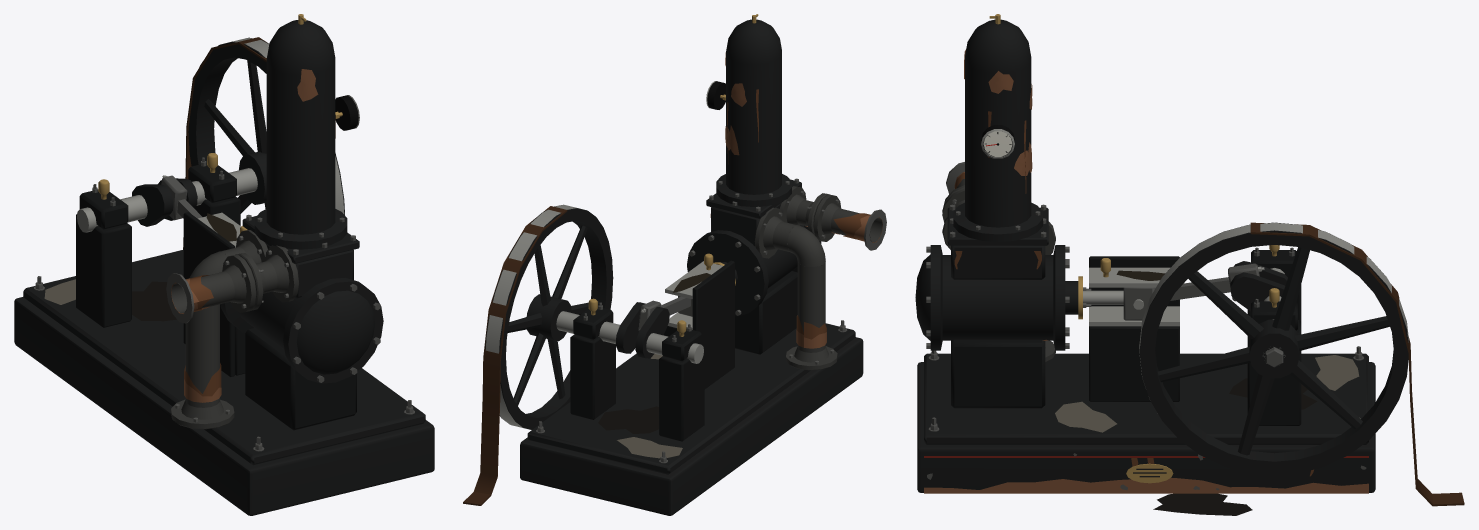
Rendered from mach_pump@1.glb.
3 renders of one model, left to right at view 1: azimuth 30°, elevation 25°; view 2: azimuth 150°, elevation 25°; view 3: azimuth 270°, elevation 25°, orthographic. The views are drawn at different scales.
Visible parts, largest first — view 1: kolbenpumpe0, kolbenpumpe5, kolbenpumpe10, kolbenpumpe2, kolbenpumpe9, kolbenpumpe14, kolbenpumpe12, kolbenpumpe11, kolbenpumpe15, kolbenpumpe6, kolbenpumpe16, kolbenpumpe3; view 2: kolbenpumpe0, kolbenpumpe5, kolbenpumpe10, kolbenpumpe9, kolbenpumpe15, kolbenpumpe2, kolbenpumpe14, kolbenpumpe12, kolbenpumpe11, kolbenpumpe16, kolbenpumpe3; view 3: kolbenpumpe0, kolbenpumpe5, kolbenpumpe12, kolbenpumpe9, kolbenpumpe2, kolbenpumpe16, kolbenpumpe15, kolbenpumpe14, kolbenpumpe3, kolbenpumpe10.
Boxes of the visible parts, box(x1,y1,x2,y2) form: kolbenpumpe0: box(14, 20, 434, 515); kolbenpumpe5: box(76, 163, 356, 430); kolbenpumpe10: box(171, 230, 298, 429); kolbenpumpe2: box(34, 157, 414, 451); kolbenpumpe9: box(77, 37, 359, 247); kolbenpumpe14: box(132, 281, 176, 321); kolbenpumpe12: box(184, 69, 318, 402); kolbenpumpe11: box(171, 116, 335, 396); kolbenpumpe15: box(183, 37, 267, 249); kolbenpumpe6: box(335, 95, 358, 130); kolbenpumpe16: box(44, 279, 75, 304); kolbenpumpe3: box(98, 14, 342, 233); kolbenpumpe0: box(485, 19, 863, 515); kolbenpumpe5: box(570, 260, 797, 441); kolbenpumpe10: box(754, 186, 882, 370); kolbenpumpe9: box(485, 81, 722, 429); kolbenpumpe15: box(463, 206, 567, 505); kolbenpumpe2: box(536, 178, 886, 463); kolbenpumpe14: box(598, 406, 658, 433); kolbenpumpe12: box(725, 52, 869, 348); kolbenpumpe11: box(710, 89, 882, 339); kolbenpumpe16: box(617, 354, 682, 458); kolbenpumpe3: box(588, 14, 758, 336); kolbenpumpe0: box(915, 19, 1408, 492); kolbenpumpe5: box(951, 250, 1301, 425); kolbenpumpe12: box(924, 49, 1368, 493); kolbenpumpe9: box(981, 129, 1408, 376); kolbenpumpe2: box(926, 162, 1366, 490); kolbenpumpe16: box(1055, 355, 1359, 432); kolbenpumpe15: box(1250, 222, 1464, 506); kolbenpumpe14: box(1153, 378, 1317, 515); kolbenpumpe3: box(989, 14, 1279, 483); kolbenpumpe10: box(942, 179, 1055, 362).
Bounding box in the file's own units: 0.9109 × 1.43 × 1.63.
